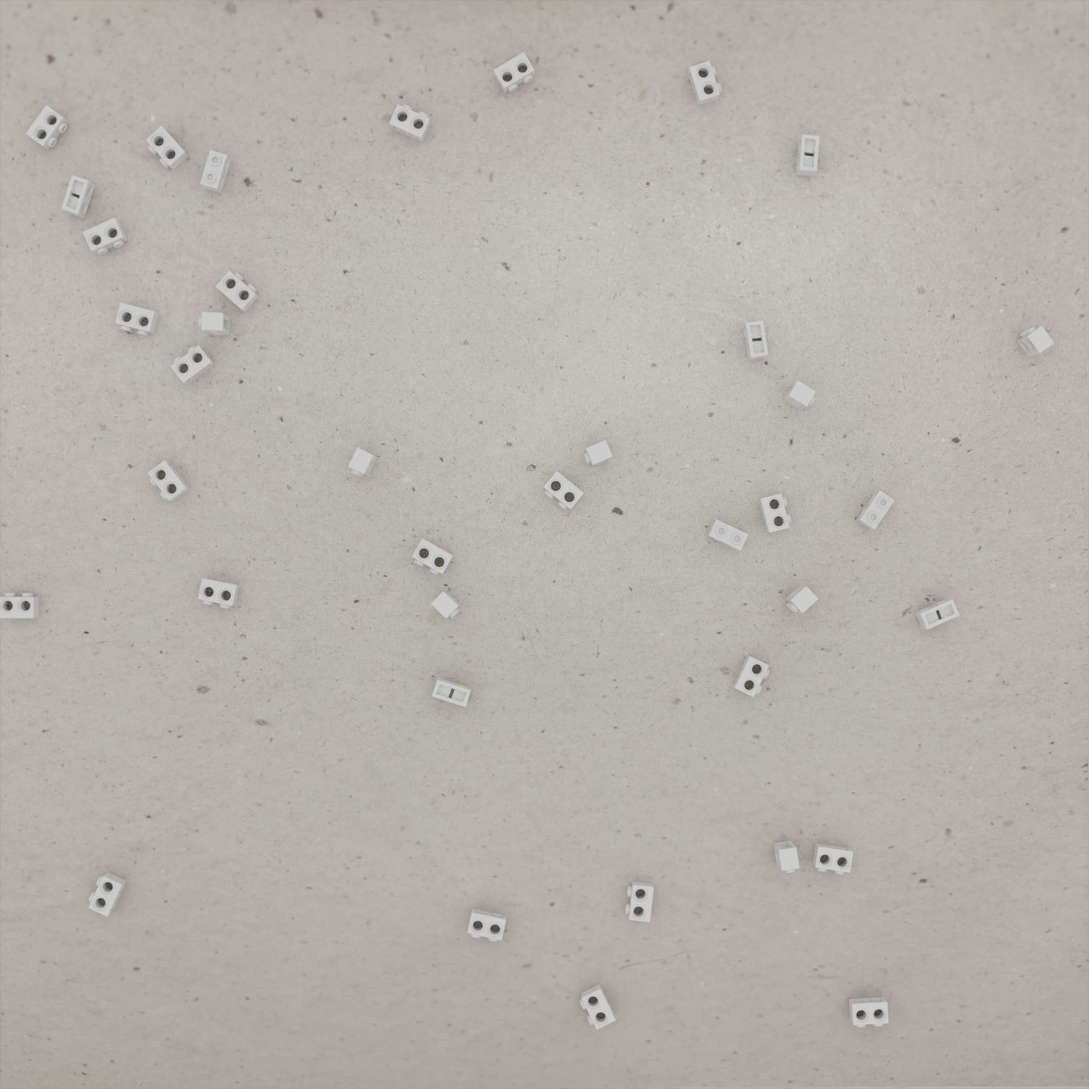lego: (25, 105, 69, 150), (146, 126, 189, 170), (215, 271, 259, 312), (170, 345, 215, 385), (88, 872, 127, 917), (82, 217, 128, 255), (493, 52, 535, 93), (148, 460, 190, 501), (579, 984, 616, 1030), (389, 104, 431, 143), (543, 471, 584, 510), (856, 490, 895, 530), (733, 655, 770, 697), (412, 538, 454, 575), (688, 61, 722, 106), (61, 175, 95, 219), (115, 303, 159, 336), (915, 598, 960, 630), (200, 150, 231, 194), (467, 908, 507, 942), (707, 519, 749, 551), (758, 493, 791, 533), (812, 843, 853, 875), (198, 578, 240, 609), (1016, 326, 1054, 358), (849, 997, 889, 1027), (625, 881, 654, 922), (432, 678, 472, 707), (743, 320, 769, 360), (796, 134, 820, 176), (783, 380, 816, 410), (0, 593, 39, 618), (785, 585, 818, 613), (773, 840, 800, 873), (348, 447, 377, 477), (431, 590, 460, 619), (583, 440, 613, 467), (199, 312, 231, 335)
